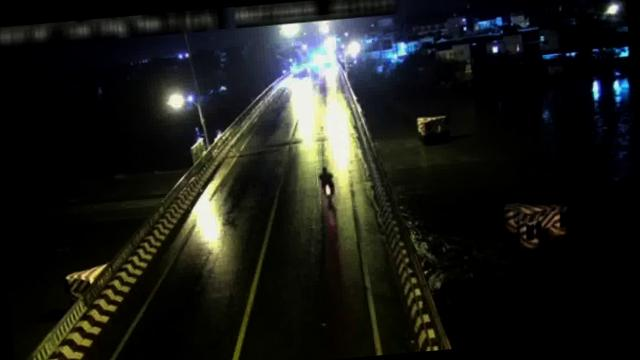Bike: (318, 166, 336, 204)
